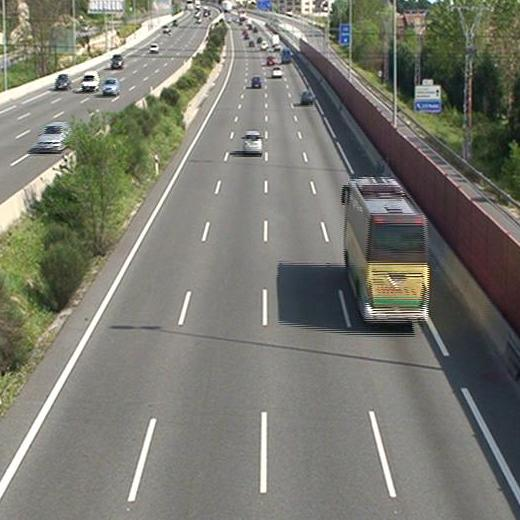bus: (343, 177, 429, 327)
car: (242, 132, 263, 153), (300, 90, 315, 105), (251, 75, 262, 89), (271, 66, 282, 77), (265, 55, 276, 64)
van: (281, 48, 292, 63)
